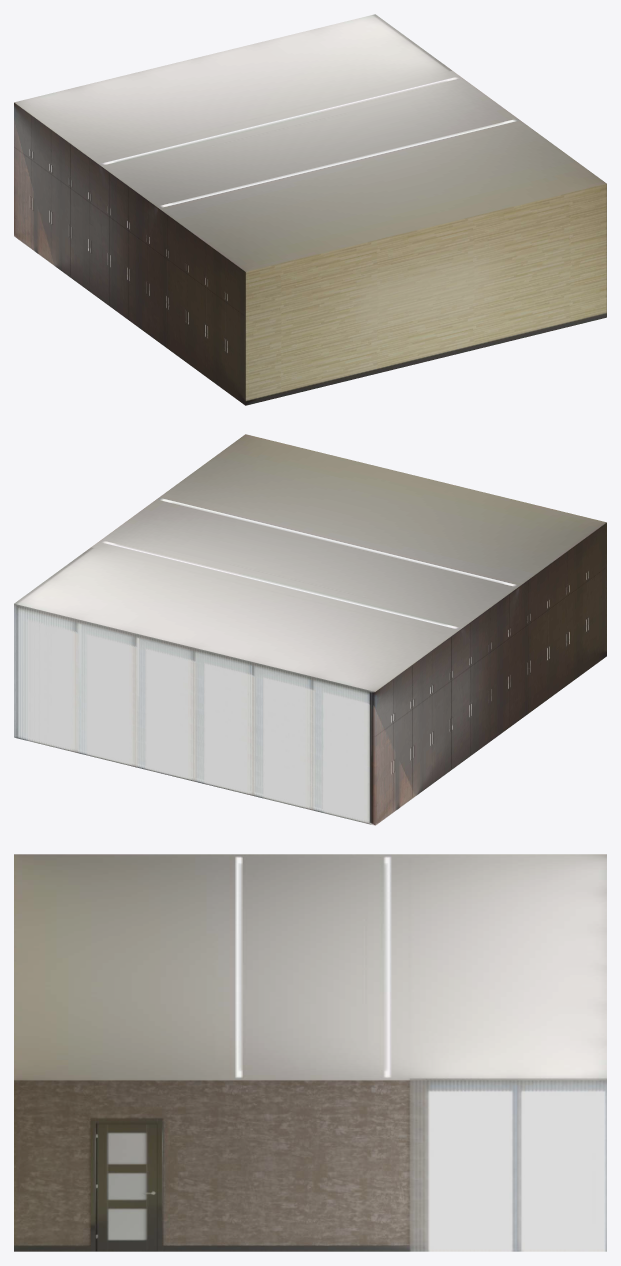
The model's file is OfficeEnv.glb.
3 renders of one model, top to bottom at view 1: azimuth 30°, elevation 25°; view 2: azimuth 150°, elevation 25°; view 3: azimuth 270°, elevation 25°, orthographic. The views are drawn at different scales.
Parts seen in each view (by area): view 1: ceiling, wallFront, wallLeft; view 2: ceiling, wallBack, wallLeft; view 3: ceiling, wallRight.
Boxes of the visible parts, x1,y1,x2,y2 form: ceiling: (14, 14, 606, 271); wallFront: (245, 183, 606, 405); wallLeft: (14, 102, 245, 405); ceiling: (14, 434, 606, 691); wallBack: (14, 603, 375, 825); wallLeft: (375, 522, 606, 825); ceiling: (14, 854, 606, 1080); wallRight: (14, 1080, 606, 1251).
Size of the model in its own units: 9 by 3.19 by 9.99.
Materials: 1 (1 with a texture image).
